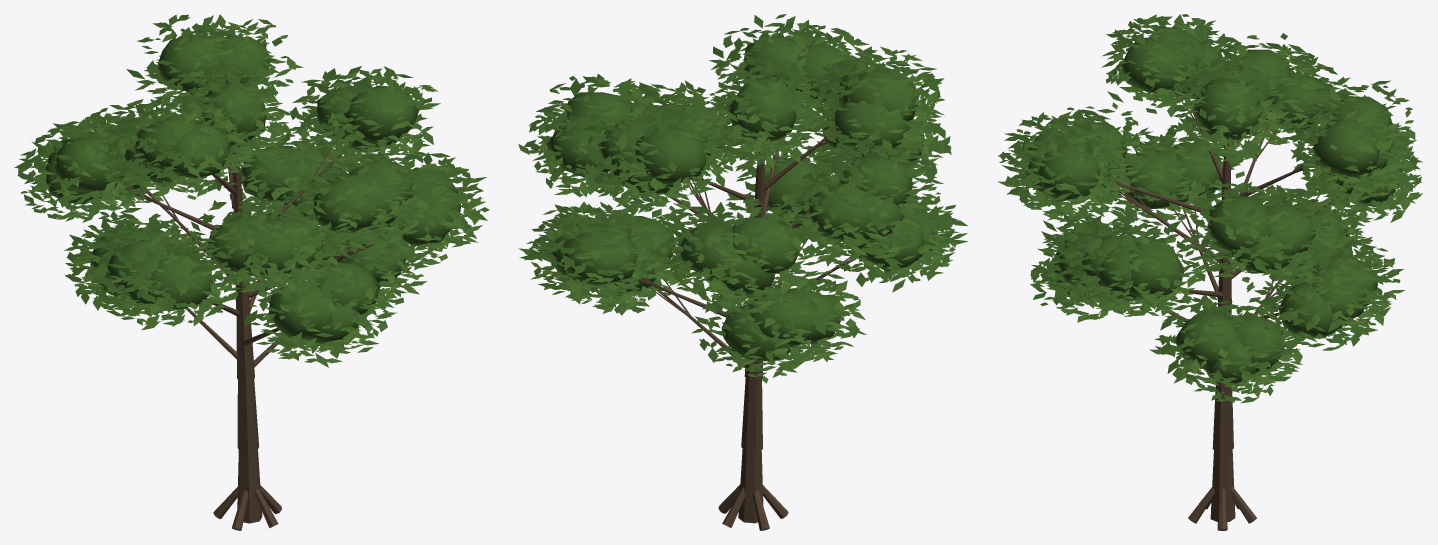
File: oak_b.glb
3 views of the same model, side by side, from view 1: azimuth 30°, elevation 25°; view 2: azimuth 150°, elevation 25°; view 3: azimuth 270°, elevation 25° (orthographic). The views are drawn at different scales.
Visible parts, largest first — view 1: oak_b; view 2: oak_b; view 3: oak_b.
Part boxes in pixels (left/top/right/bottom): oak_b: left=14, top=14, right=489, bottom=530; oak_b: left=518, top=14, right=968, bottom=530; oak_b: left=998, top=14, right=1422, bottom=530.
Bounding box in the file's own units: 5.63 × 6.24 × 5.31.
